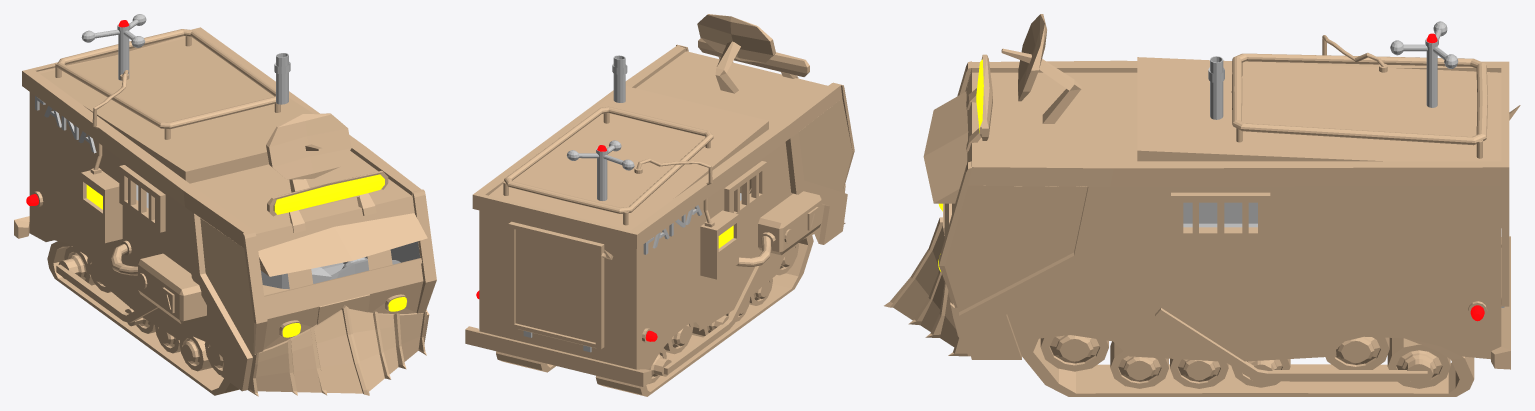
The model's file is FANACRUISER_V3.fbx.
3 views of the same model, side by side, from view 1: azimuth 30°, elevation 25°; view 2: azimuth 150°, elevation 25°; view 3: azimuth 270°, elevation 25° (orthographic). The views are drawn at different scales.
Parts seen in each view (by area): view 1: ExteriorBox, BoxNStuff, Wheels, InteriorBox, Anemometer, Exhaust, FanaText; view 2: ExteriorBox, Door, Wheels, BoxNStuff, Anemometer, Exhaust, FanaText; view 3: ExteriorBox, Wheels, Anemometer, InteriorBox, Door, Exhaust.
Part boxes in pixels (x1,y1,x2,y2): ExteriorBox: [14, 27, 436, 396]; BoxNStuff: [81, 70, 206, 324]; Wheels: [47, 241, 239, 395]; InteriorBox: [136, 184, 420, 295]; Anemometer: [81, 14, 146, 80]; Exhaust: [274, 53, 290, 104]; FanaText: [35, 96, 96, 153]; ExteriorBox: [465, 14, 854, 386]; Door: [508, 221, 613, 349]; Wheels: [496, 235, 813, 396]; BoxNStuff: [634, 158, 821, 279]; Anemometer: [567, 140, 634, 200]; Exhaust: [612, 55, 627, 102]; FanaText: [643, 205, 702, 254]; ExteriorBox: [884, 14, 1510, 369]; Wheels: [1022, 308, 1474, 396]; Anemometer: [1390, 21, 1458, 107]; InteriorBox: [1183, 202, 1257, 227]; Door: [1501, 105, 1520, 306]; Exhaust: [1208, 56, 1224, 119].
Size of the model in its own units: 521 by 632 by 1116.
